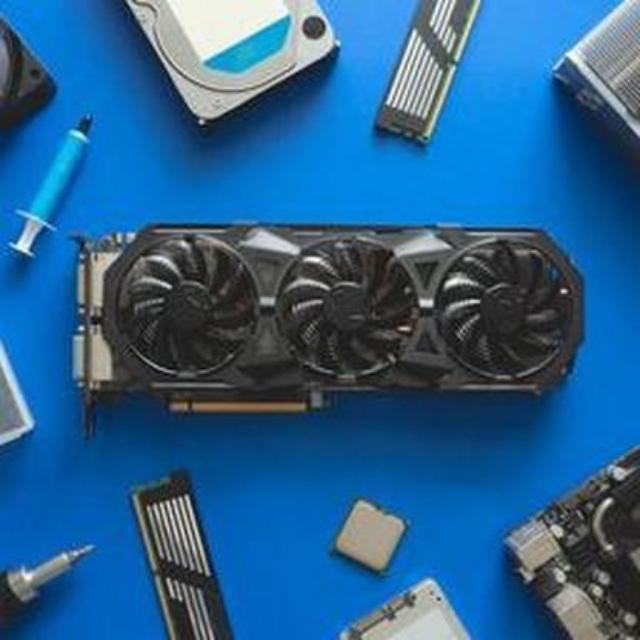GPU: (78, 222, 590, 416)
